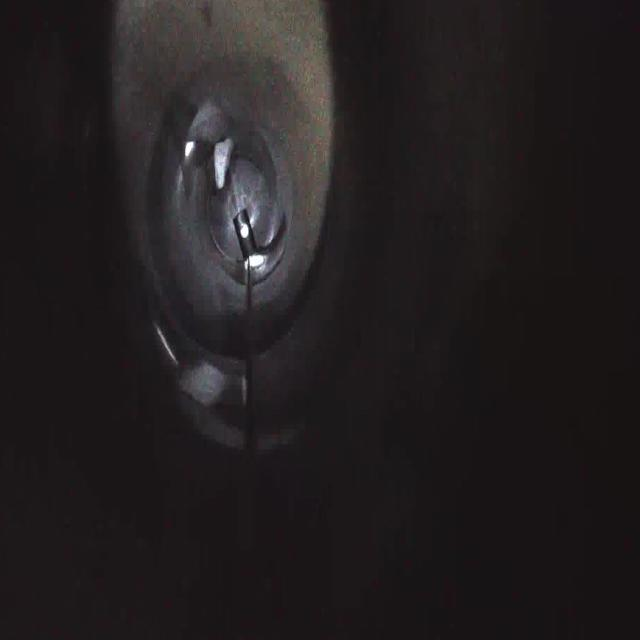impurity: (212, 130, 236, 192)
